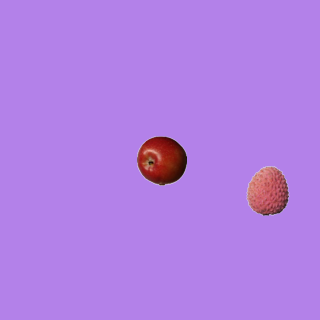Apple Braeburn: (136, 135, 186, 185)
Lychee: (242, 165, 292, 215)
